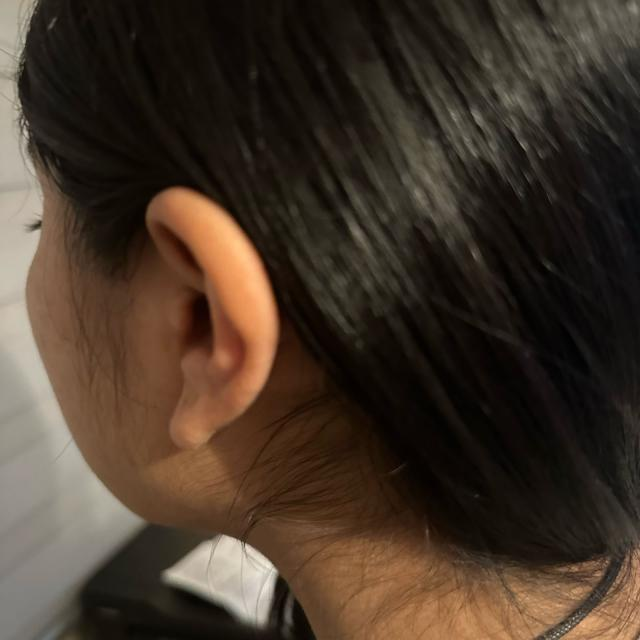ear: (126, 188, 280, 448)
